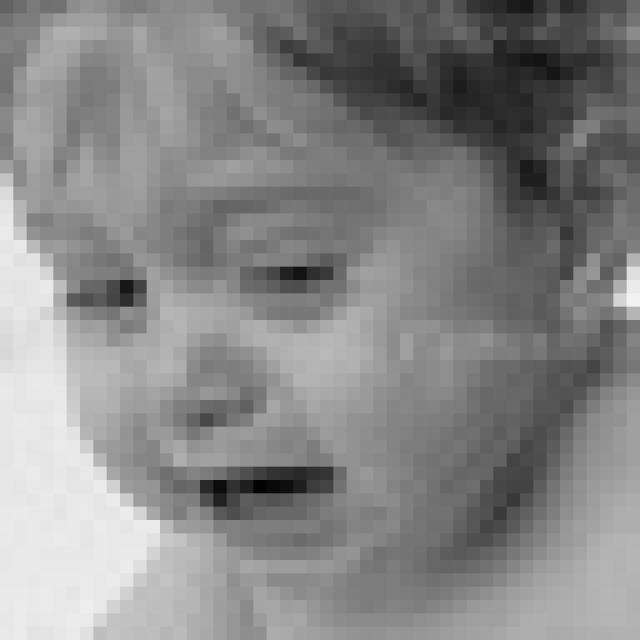sad: (66, 168, 402, 581)
